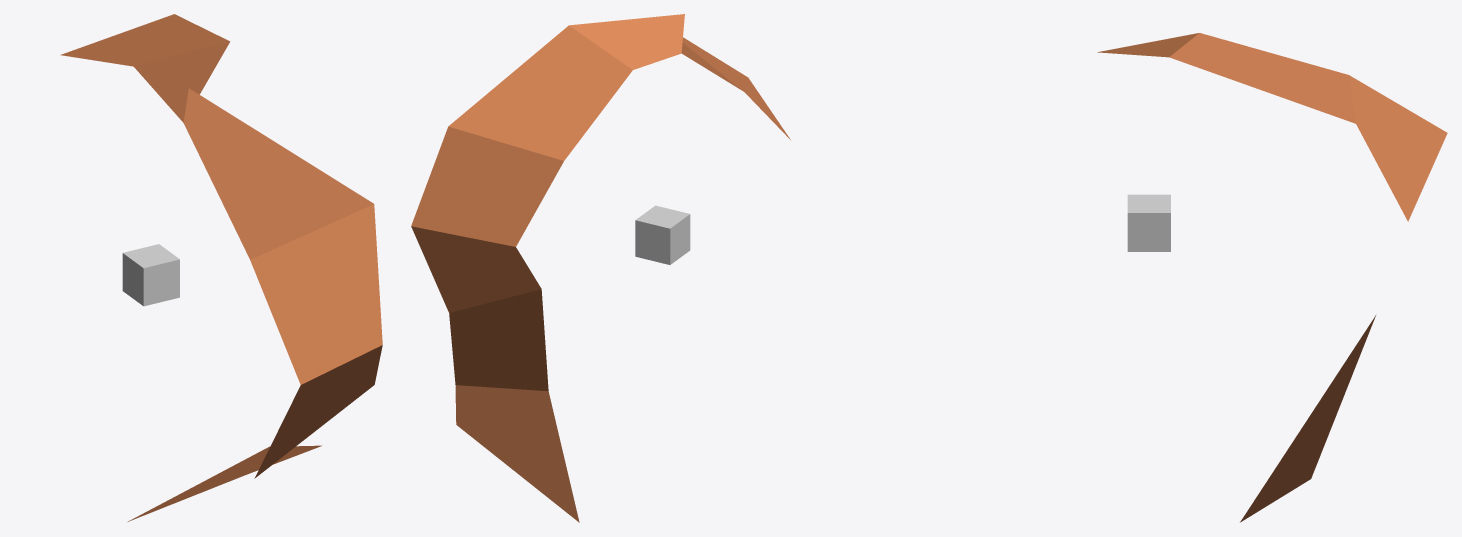
The model's file is montains.gltf.
3 renders of one model, left to right at view 1: azimuth 30°, elevation 25°; view 2: azimuth 150°, elevation 25°; view 3: azimuth 270°, elevation 25°, orthographic. The views are drawn at different scales.
Visible parts, largest first — view 1: Cube; view 2: Cube; view 3: Cube.
Boxes of the visible parts, <box> form: Cube: <box>60,14,382,521</box>; Cube: <box>411,14,790,522</box>; Cube: <box>1097,33,1447,522</box>.
Size of the model in its own units: 4.03 by 9.72 by 11.21.
